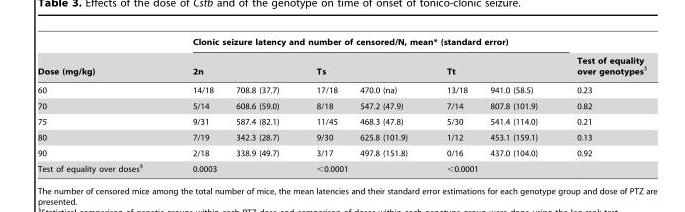table: (37, 37, 646, 173)
table column: (37, 37, 167, 173), (556, 37, 646, 173), (348, 37, 426, 173), (478, 37, 556, 173), (224, 37, 297, 173), (167, 37, 224, 173), (426, 37, 478, 173), (297, 37, 348, 173)
table column header: (37, 37, 646, 97)
table row: (37, 51, 646, 80), (37, 80, 646, 97), (37, 97, 646, 113), (37, 113, 646, 129), (37, 129, 646, 145), (37, 145, 646, 160), (37, 37, 646, 51), (37, 160, 646, 173)
table spanning cell: (37, 37, 167, 97), (167, 37, 556, 51), (556, 37, 646, 97), (167, 51, 297, 80), (426, 51, 556, 80), (297, 51, 426, 80), (167, 160, 297, 173), (426, 160, 556, 173), (297, 160, 426, 173)
